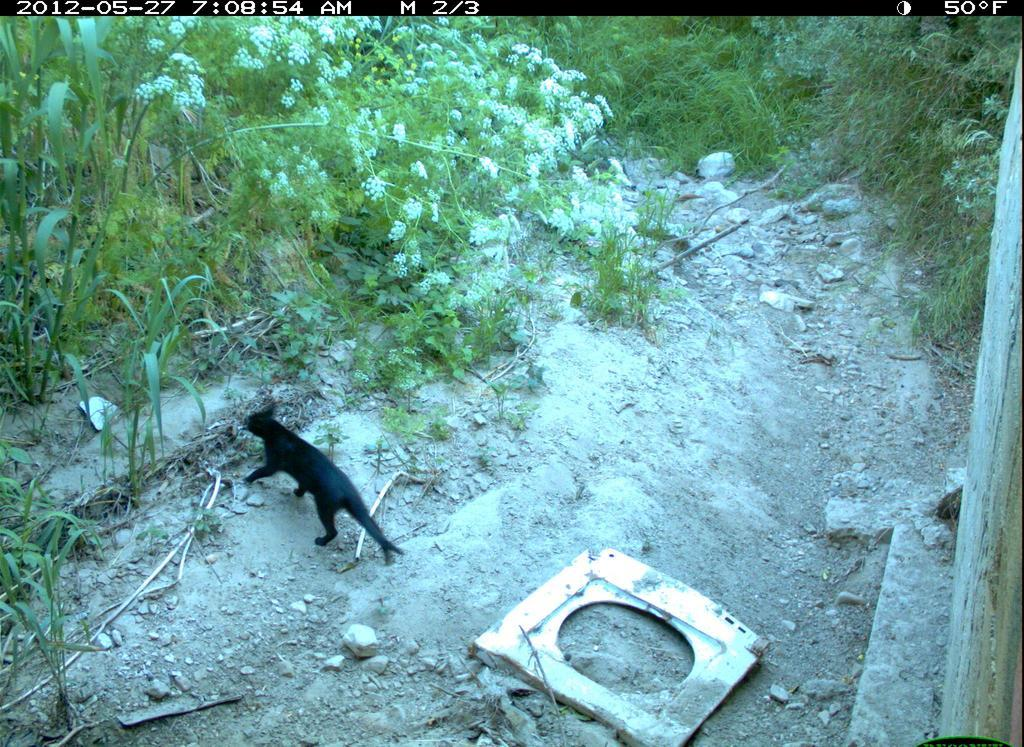cat: (227, 390, 409, 580)
